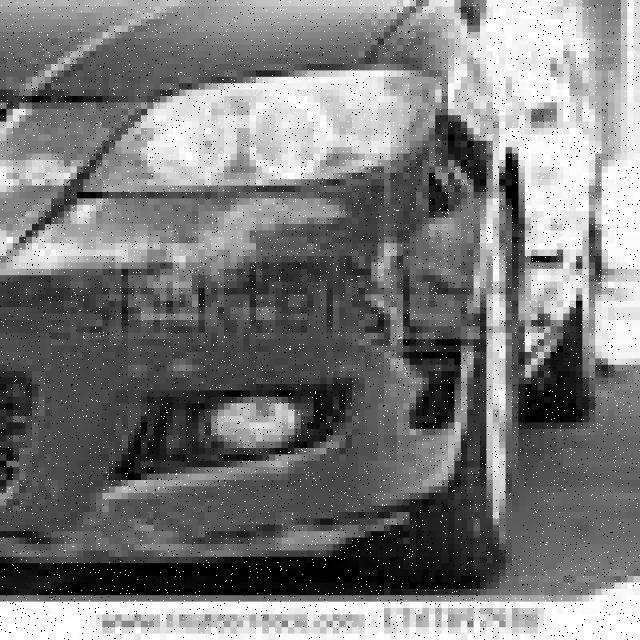front-bumper-dent: (1, 154, 500, 538)
